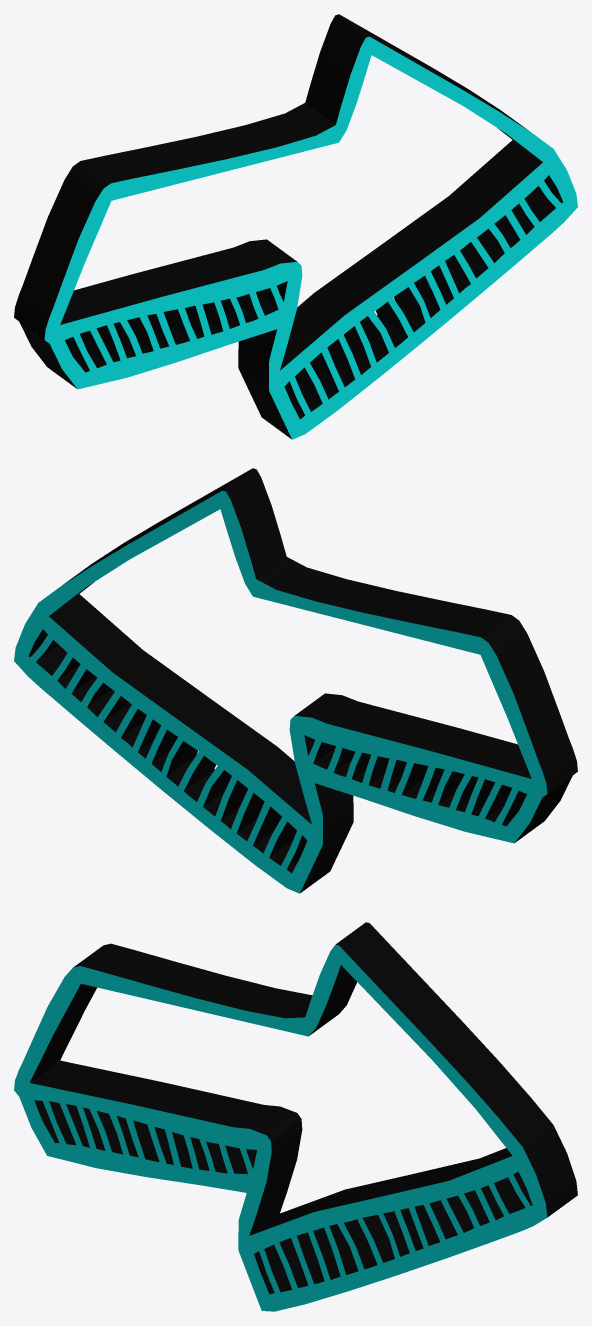
Rendered from Arrow.gltf.
The picture shows the model from 3 angles, top to bottom: view 1: azimuth 30°, elevation 25°; view 2: azimuth 150°, elevation 25°; view 3: azimuth 330°, elevation 25°; orthographic projection.
Visible parts, largest first — view 1: node-0; view 2: node-0; view 3: node-0.
Part boxes in pixels (x1,y1,x2,y2): node-0: (14,14,577,439); node-0: (14,468,577,893); node-0: (14,922,577,1311).
Size of the model in its own units: 11.94 by 8.22 by 1.18.
